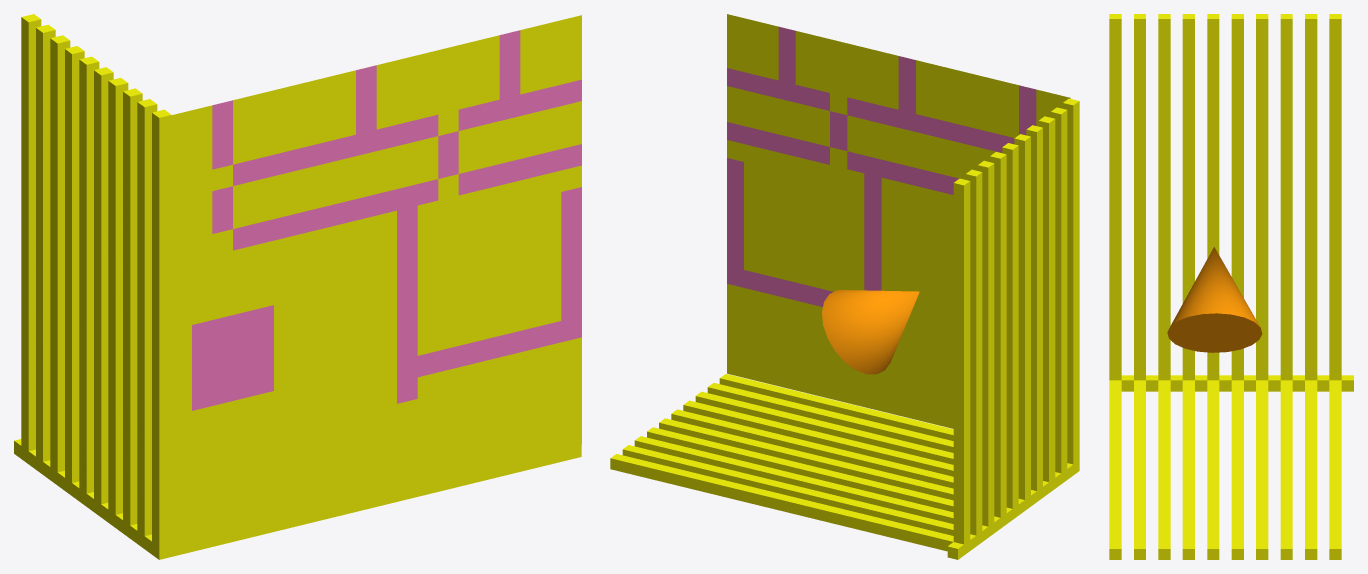
The model's file is simple_006_Pivot_01.dae.
3 renders of one model, left to right at view 1: azimuth 30°, elevation 25°; view 2: azimuth 150°, elevation 25°; view 3: azimuth 270°, elevation 25°, orthographic. The views are drawn at different scales.
Visible parts, largest first — view 1: pPlane1, pCube1; view 2: pCube1, pPlane1, pCone1; view 3: pCube1, pCone1.
Boxes of the visible parts, x1,y1,x2,y2 form: pPlane1: (171, 15, 581, 544); pCube1: (14, 14, 581, 559); pCube1: (610, 98, 1079, 559); pPlane1: (727, 14, 1070, 428); pCone1: (822, 290, 919, 374); pCube1: (1109, 14, 1353, 559); pCone1: (1167, 247, 1262, 352).
Size of the model in its own units: 33.62 by 20.11 by 33.65.
